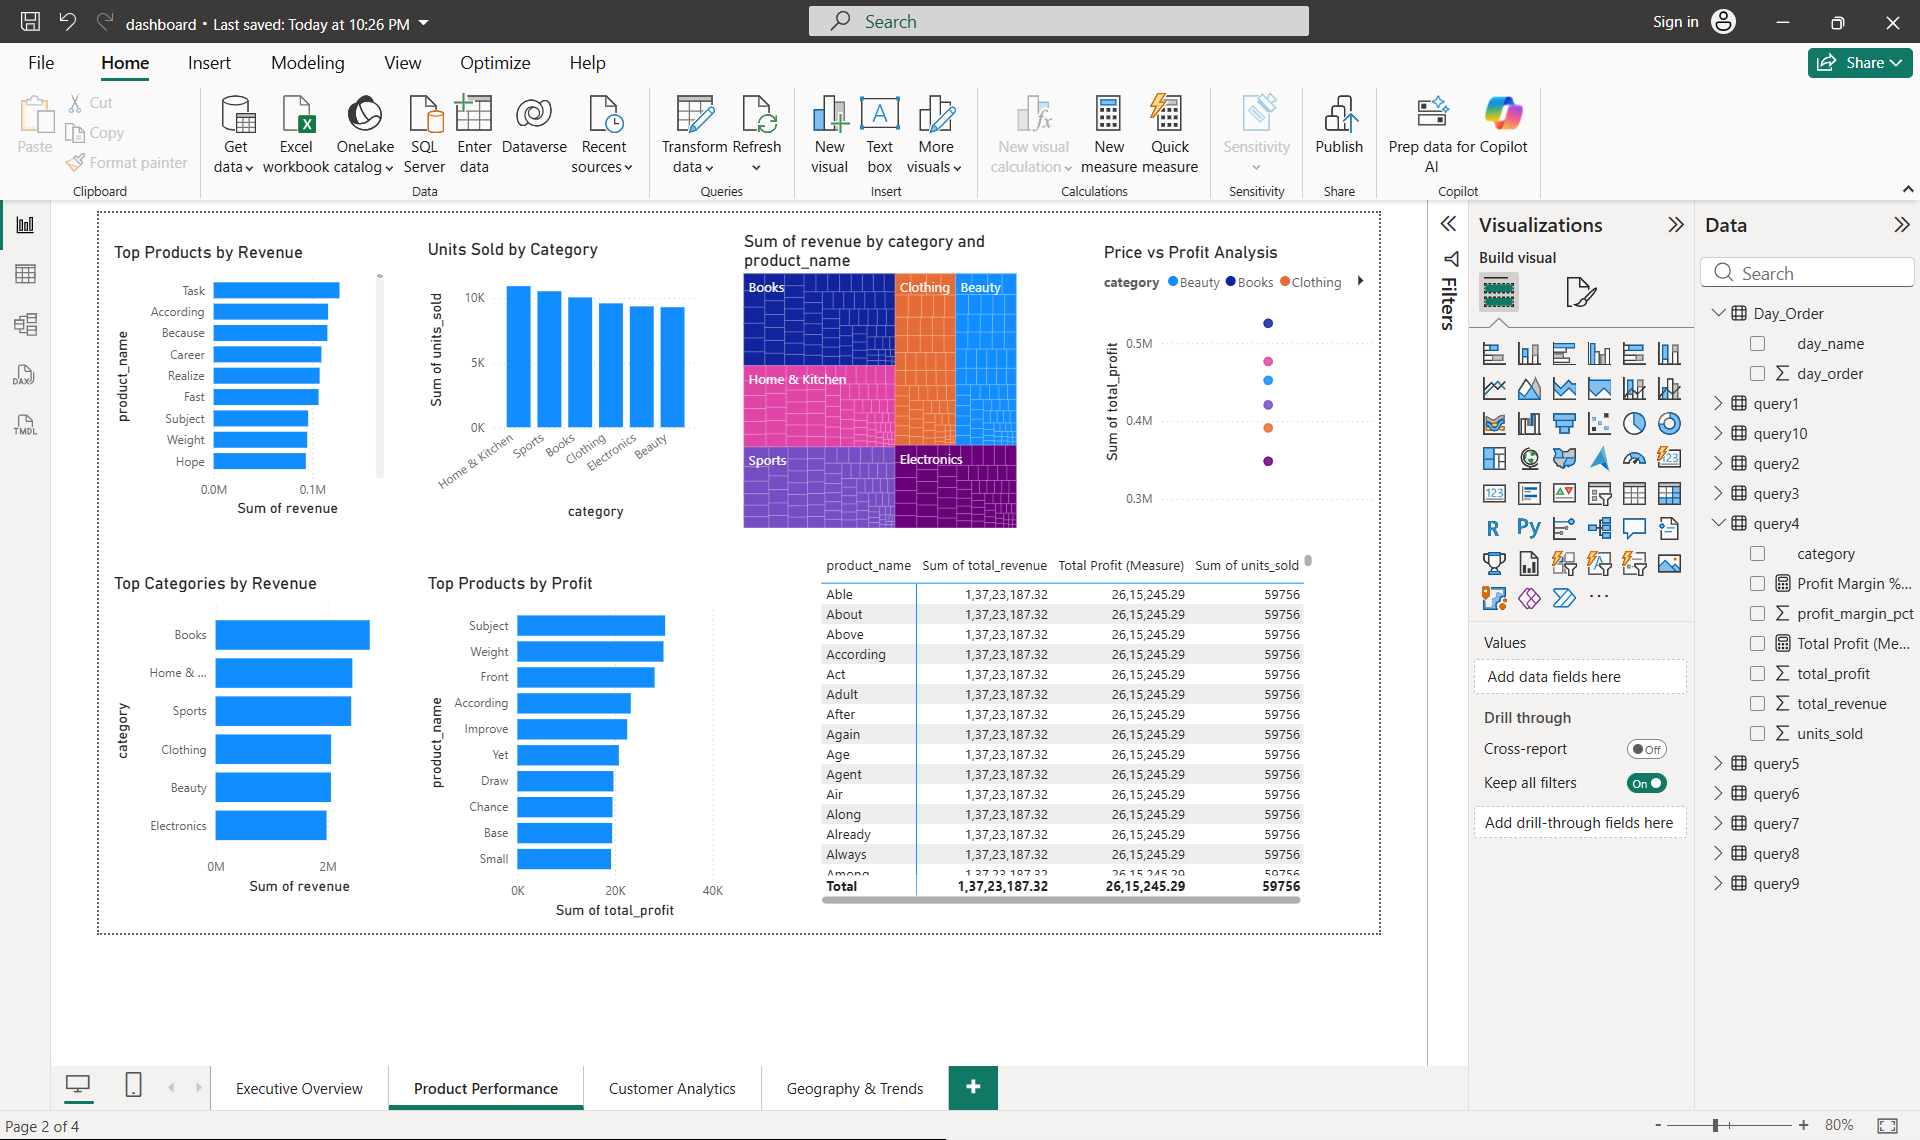

What the dashboard file says about the page in this screenshot:
{"tool":"powerbi","page":{"name":"Product Performance","canvas":[1280,720],"ordinal":1},"visuals":[{"type":"clusteredBarChart","title":"Top Products by Revenue","fields":{"Category":["query8.product_name"],"Y":["Sum(query8.revenue)"]},"box":[10,28.9,280,280],"z":0},{"type":"clusteredBarChart","title":"Top Categories by Revenue","fields":{"Category":["query8.category"],"Y":["Sum(query8.revenue)"]},"box":[10,360,288.8,326.2],"z":1000},{"type":"clusteredColumnChart","title":"Units Sold by Category","fields":{"Category":["query8.category"],"Y":["Sum(query8.units_sold)"]},"box":[323.8,26.2,280,285],"z":2000},{"type":"clusteredBarChart","title":"Top Products by Profit","fields":{"Category":["query8.product_name"],"Y":["Sum(query8.total_profit)"]},"box":[323.8,360,305,350],"z":3000},{"type":"treemap","fields":{"Group":["query8.category"],"Details":["query8.product_name"],"Values":["Sum(query8.revenue)"]},"box":[640,17.5,282.5,302.5],"z":4000},{"type":"scatterChart","title":"Price vs Profit Analysis","fields":{"Y":["Sum(query8.total_profit)"],"Series":["query8.category"]},"box":[1000,28.8,280,285],"z":5000},{"type":"pivotTable","fields":{"Rows":["query8.product_name"],"Values":["Sum(query4.total_revenue)","query4.Total Profit (Measure)","Sum(query4.units_sold)"]},"box":[717.8,336.7,501.1,360],"z":6000}]}

Visuals, with their boxes on the page's 1280x720 design canvas (x1, y1, x2, y2). These are canvas units, not pixel positions in the 1920x1140 screenshot, which may show the page scaled, cropped or inside an application window:
"Top Products by Revenue" clusteredBarChart: (10,29,290,309)
"Top Categories by Revenue" clusteredBarChart: (10,360,299,686)
"Units Sold by Category" clusteredColumnChart: (324,26,604,311)
"Top Products by Profit" clusteredBarChart: (324,360,629,710)
treemap - query8.category x query8.product_name: (640,18,922,320)
"Price vs Profit Analysis" scatterChart: (1000,29,1280,314)
pivotTable - query8.product_name x Sum(query4.total_revenue): (718,337,1219,697)
